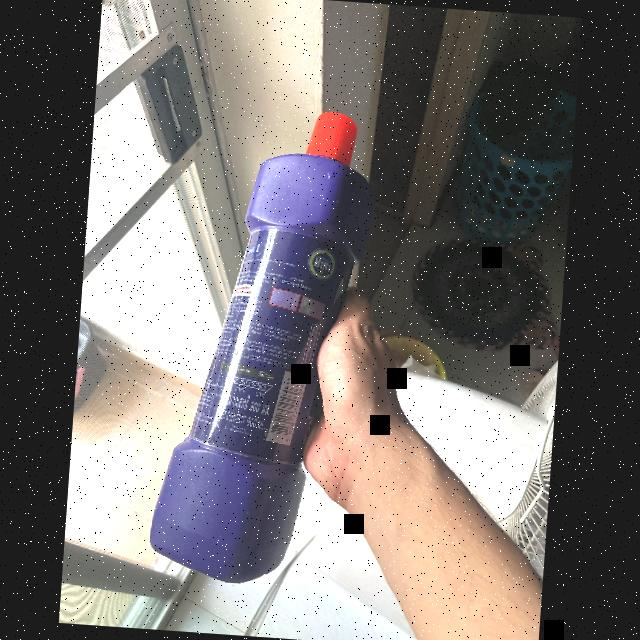toilet_cleaner: (142, 97, 386, 598)
